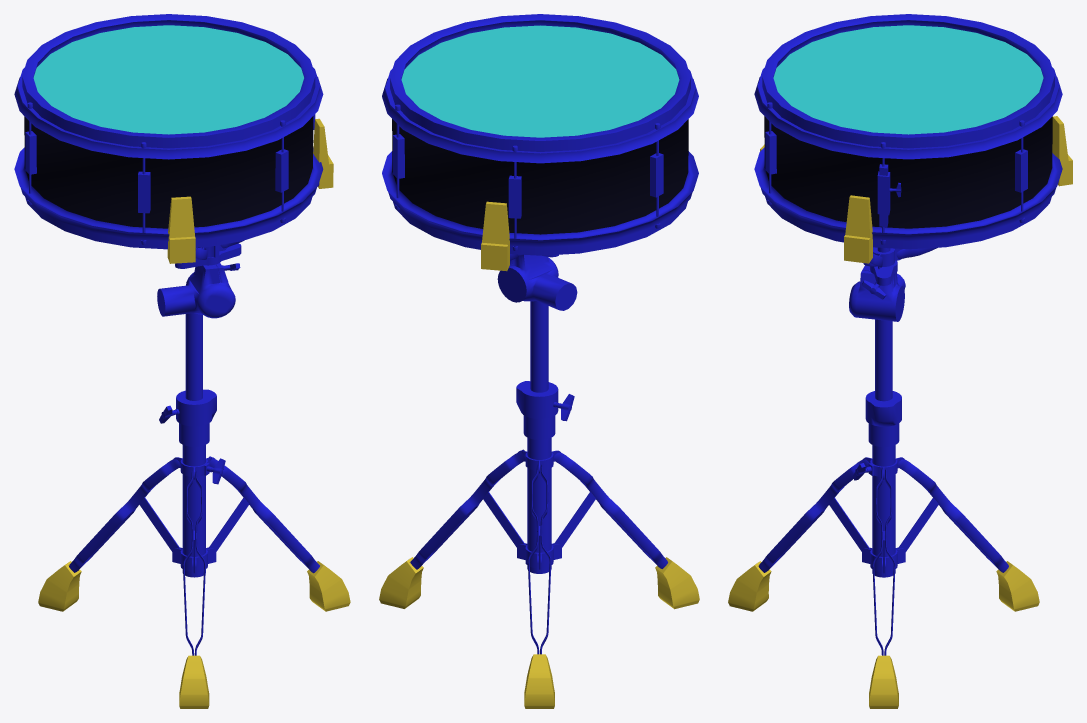
The model's file is snare_drum_FBX.fbx.
3 renders of one model, left to right at view 1: azimuth 30°, elevation 25°; view 2: azimuth 150°, elevation 25°; view 3: azimuth 270°, elevation 25°, orthographic. The views are drawn at different scales.
Visible parts, largest first — view 1: rullante_LOW; view 2: rullante_LOW; view 3: rullante_LOW.
Boxes of the visible parts, <box> form: rullante_LOW: <box>14,14,350,708</box>; rullante_LOW: <box>379,14,699,708</box>; rullante_LOW: <box>728,14,1072,708</box>.
Bounding box in the file's own units: 38.17 × 68.48 × 38.59.
